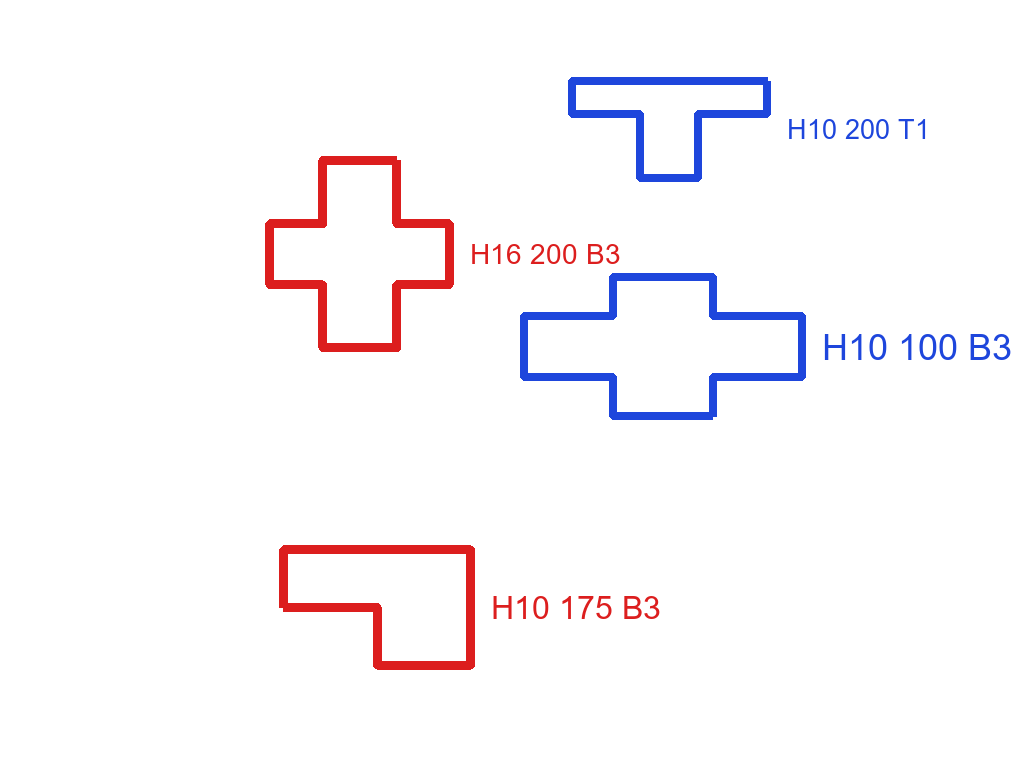shape: (519, 271, 808, 422), (263, 154, 456, 354), (277, 543, 477, 672), (565, 76, 773, 183)
text: (820, 332, 1014, 362), (489, 594, 663, 621), (467, 242, 622, 266), (785, 118, 932, 142)
